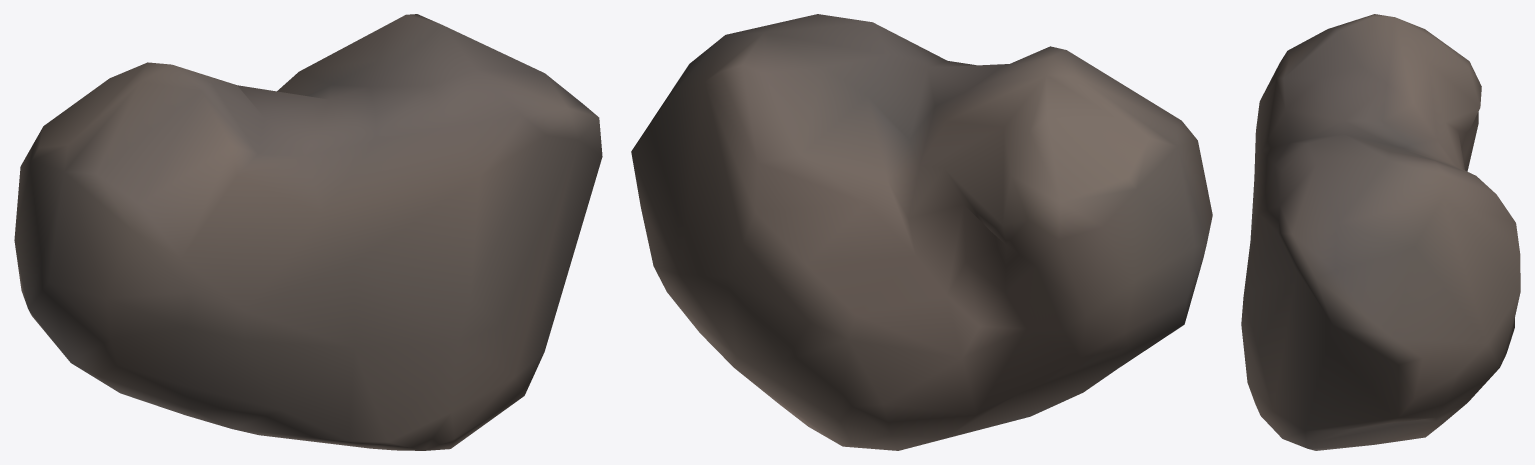
Rendered from RockSmall.006.glb.
3 renders of one model, left to right at view 1: azimuth 30°, elevation 25°; view 2: azimuth 150°, elevation 25°; view 3: azimuth 270°, elevation 25°, orthographic. The views are drawn at different scales.
Parts seen in each view (by area): view 1: RockSmall.006; view 2: RockSmall.006; view 3: RockSmall.006.
Part boxes in pixels (left/top/right/bottom): RockSmall.006: left=14, top=14, right=602, bottom=450; RockSmall.006: left=631, top=14, right=1212, bottom=450; RockSmall.006: left=1241, top=14, right=1520, bottom=450.
Size of the model in its own units: 142 by 102 by 74.87.
